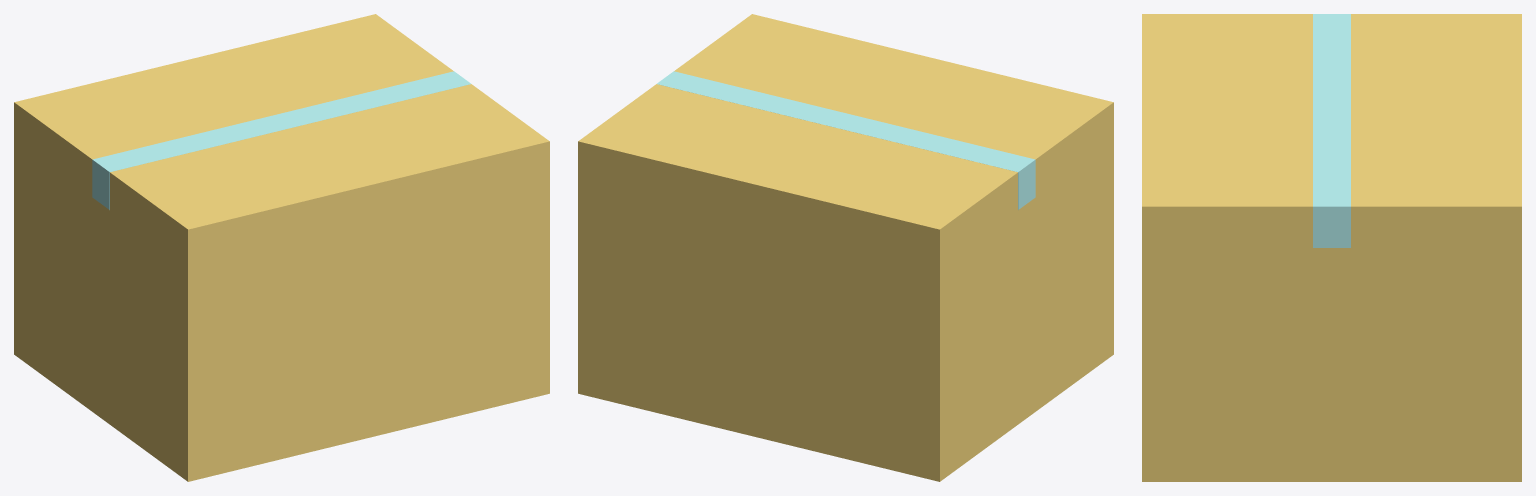
The picture shows the model from 3 angles, left to right: view 1: azimuth 30°, elevation 25°; view 2: azimuth 150°, elevation 25°; view 3: azimuth 270°, elevation 25°; orthographic projection. The views are drawn at different scales.
Visible parts, largest first — view 1: NONE_DC_Shell_45_14, NONE_DC_Shell_46_14; view 2: NONE_DC_Shell_45_14, NONE_DC_Shell_46_14; view 3: NONE_DC_Shell_45_14, NONE_DC_Shell_46_14.
Part boxes in pixels (x1=…): NONE_DC_Shell_45_14: x1=14, y1=14, x2=549, y2=481; NONE_DC_Shell_46_14: x1=92, y1=71, x2=470, y2=209; NONE_DC_Shell_45_14: x1=578, y1=14, x2=1113, y2=481; NONE_DC_Shell_46_14: x1=657, y1=71, x2=1035, y2=209; NONE_DC_Shell_45_14: x1=1142, y1=14, x2=1521, y2=481; NONE_DC_Shell_46_14: x1=1313, y1=14, x2=1350, y2=247.
Bounding box in the file's own units: 600 × 400 × 500.
